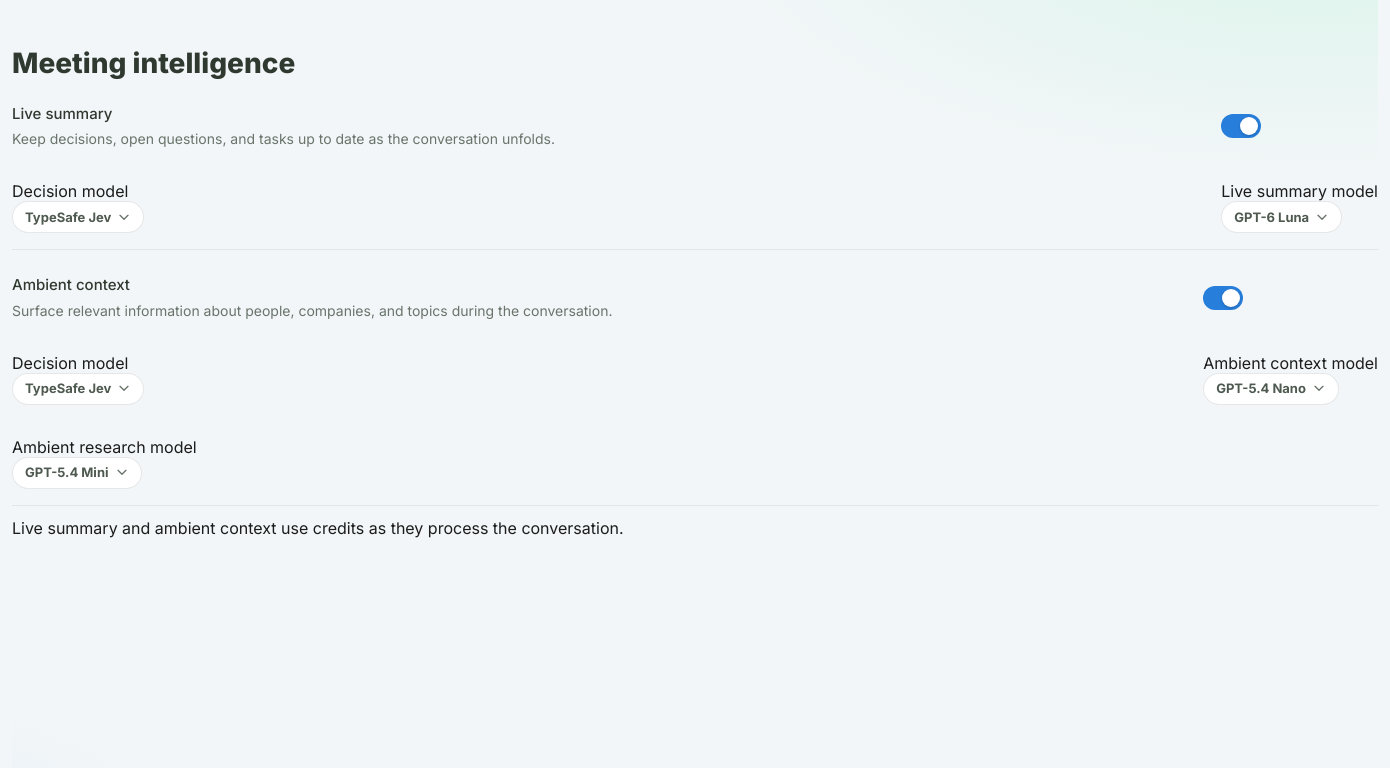
it: failed save shows an error and keeps the persisted value
Click the switch labelled "Live summary" at (1241, 126), box [1221, 114, 1261, 138]
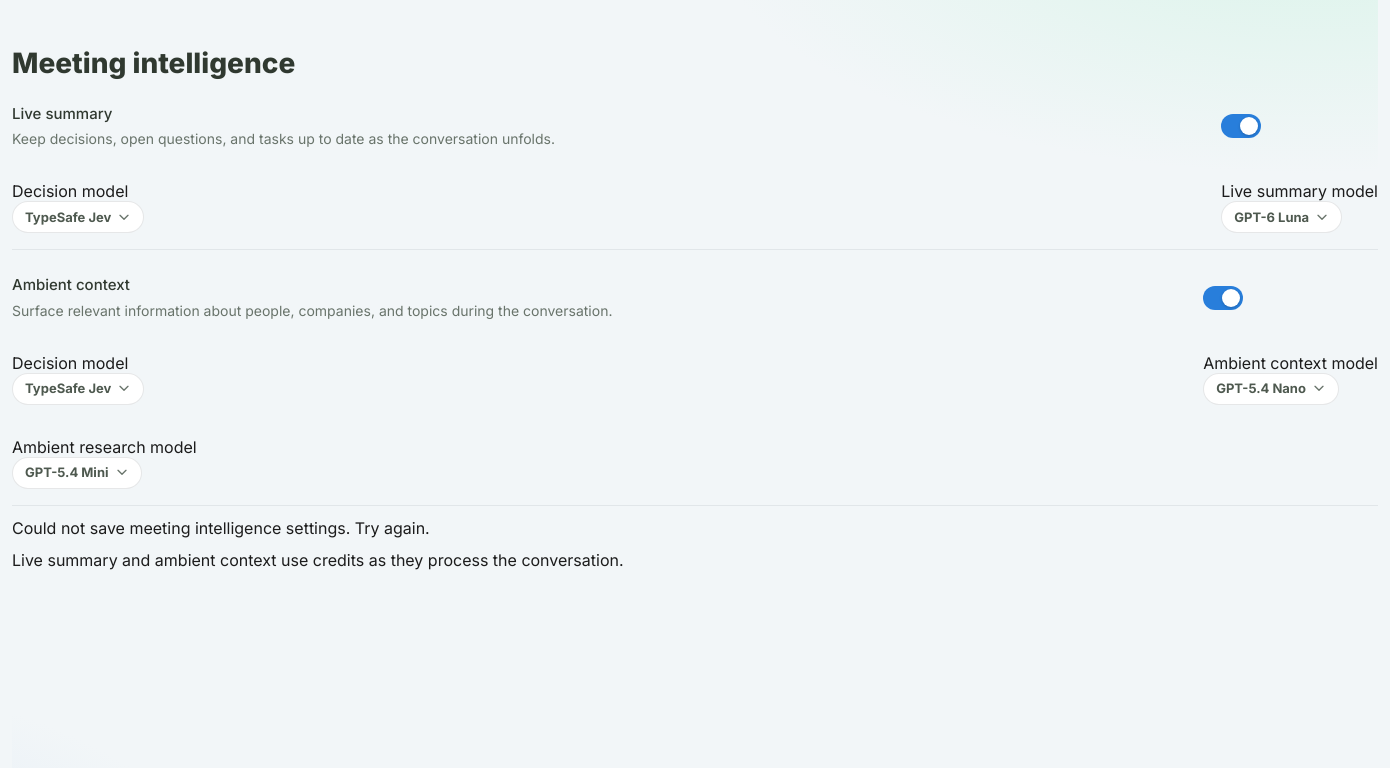
Check: the message shows "Could not save", box [12, 518, 430, 538]
